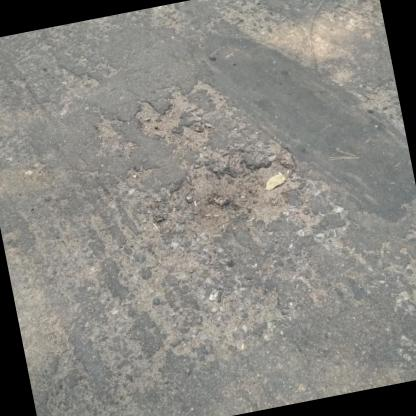pothole: (155, 140, 312, 246), (128, 76, 233, 160)
